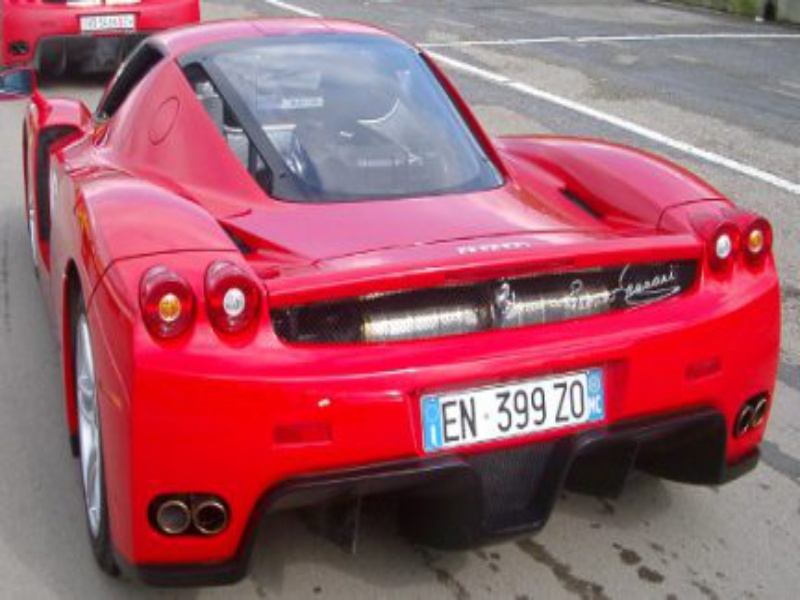licence_plate: (413, 376, 615, 455)
